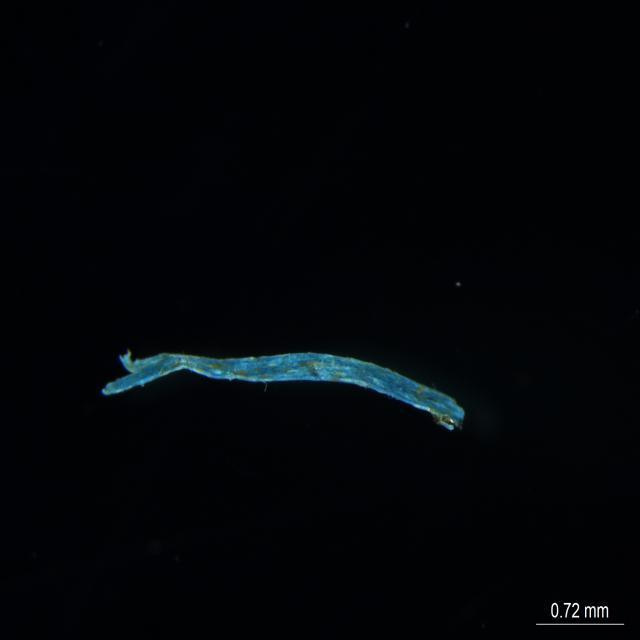fiber: (99, 341, 476, 436)
